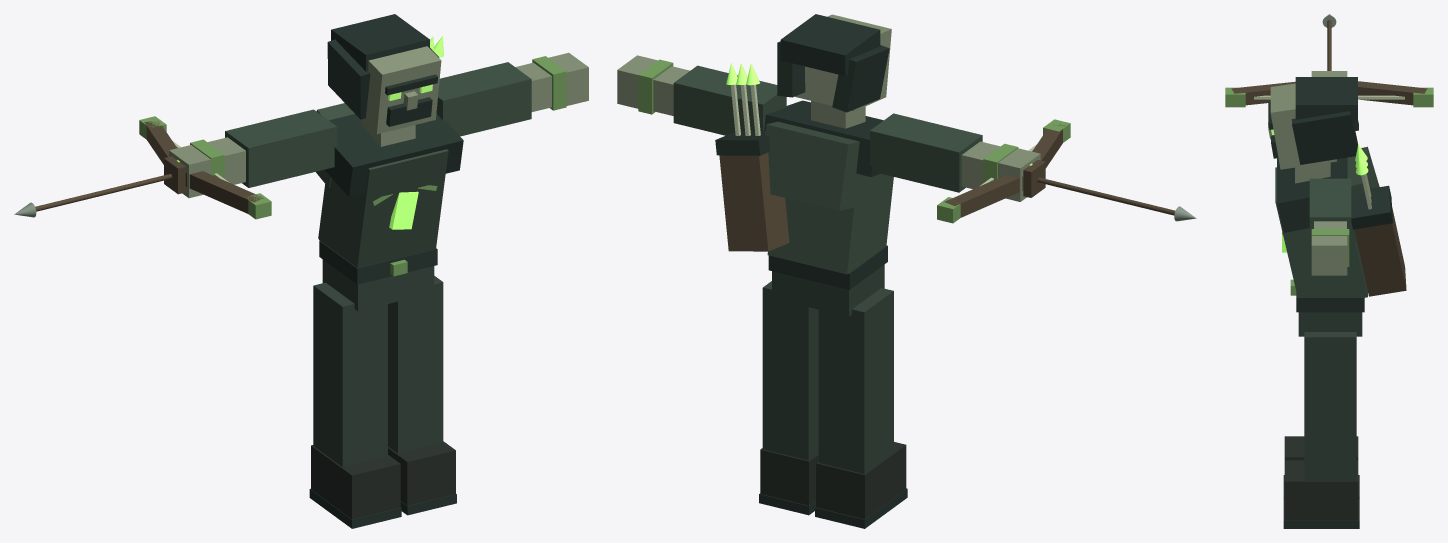
File: FSA_ENEMY_B003_PoisonArcher.glb
3 views of the same model, side by side, from view 1: azimuth 30°, elevation 25°; view 2: azimuth 150°, elevation 25°; view 3: azimuth 270°, elevation 25° (orthographic). The views are drawn at different scales.
Visible parts, largest first — view 1: TrousersR, Torso, TrousersL, SleeveR, SleeveL, Shoulders, BootR, Face, BootL, HoodTop, Hips, HoodSideR (+14 smaller); view 2: TrousersR, TrousersL, Torso, RoundedBack, SleeveR, Quiver, SleeveL, BootR, HoodTop, Hips, BootL, HoodSideR (+16 smaller); view 3: TrousersL, BootL, Torso, Quiver, HoodSideL, HoodTop, Shoulders, SleeveL, Face, HandL, QuiverRim, Hips (+12 smaller).
Part boxes in pixels (x1=…): TrousersR: x1=313, y1=282, x2=387, y2=466; Torso: x1=318, y1=149, x2=448, y2=267; TrousersL: x1=388, y1=276, x2=443, y2=453; SleeveR: x1=225, y1=109, x2=337, y2=187; SleeveL: x1=436, y1=62, x2=531, y2=136; Shoulders: x1=324, y1=113, x2=463, y2=197; BootR: x1=311, y1=445, x2=400, y2=519; Face: x1=362, y1=46, x2=441, y2=134; BootL: x1=388, y1=441, x2=455, y2=505; HoodTop: x1=331, y1=14, x2=429, y2=71; Hips: x1=322, y1=259, x2=434, y2=311; HoodSideR: x1=327, y1=39, x2=370, y2=119; TrousersR: x1=818, y1=288, x2=893, y2=473; TrousersL: x1=762, y1=281, x2=818, y2=460; Torso: x1=767, y1=173, x2=893, y2=274; RoundedBack: x1=765, y1=121, x2=863, y2=210; SleeveR: x1=870, y1=113, x2=982, y2=192; Quiver: x1=719, y1=152, x2=789, y2=251; SleeveL: x1=673, y1=65, x2=786, y2=135; BootR: x1=816, y1=442, x2=906, y2=519; HoodTop: x1=780, y1=14, x2=880, y2=75; Hips: x1=772, y1=264, x2=884, y2=316; BootL: x1=760, y1=448, x2=818, y2=505; HoodSideR: x1=832, y1=45, x2=889, y2=112; TrousersL: x1=1304, y1=332, x2=1356, y2=480; BootL: x1=1284, y1=460, x2=1358, y2=520; Torso: x1=1275, y1=167, x2=1367, y2=297; Quiver: x1=1354, y1=207, x2=1406, y2=296; HoodSideL: x1=1291, y1=111, x2=1357, y2=164; HoodTop: x1=1295, y1=77, x2=1357, y2=123; Shoulders: x1=1277, y1=157, x2=1347, y2=232; SleeveL: x1=1309, y1=178, x2=1351, y2=252; Face: x1=1270, y1=83, x2=1336, y2=169; HandL: x1=1311, y1=236, x2=1347, y2=275; QuiverRim: x1=1351, y1=185, x2=1392, y2=229; Hips: x1=1298, y1=312, x2=1362, y2=336.
Bounding box in the file's own units: 2.29 × 1.8 × 0.82.
